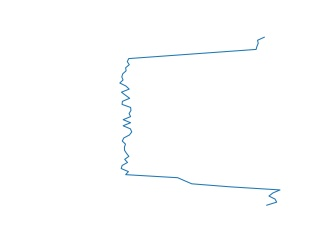distributaryChannelFill: (114, 36, 288, 205)
